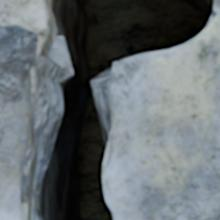broken_brick: (105, 11, 219, 219), (0, 24, 38, 219)
crack: (2, 0, 217, 219)
